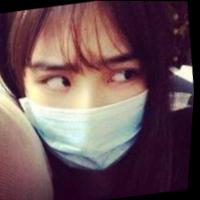WRONG: (12, 40, 159, 180)
